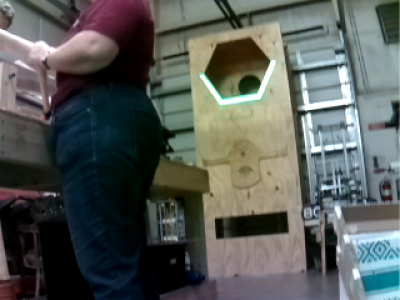target: (199, 60, 278, 106)
